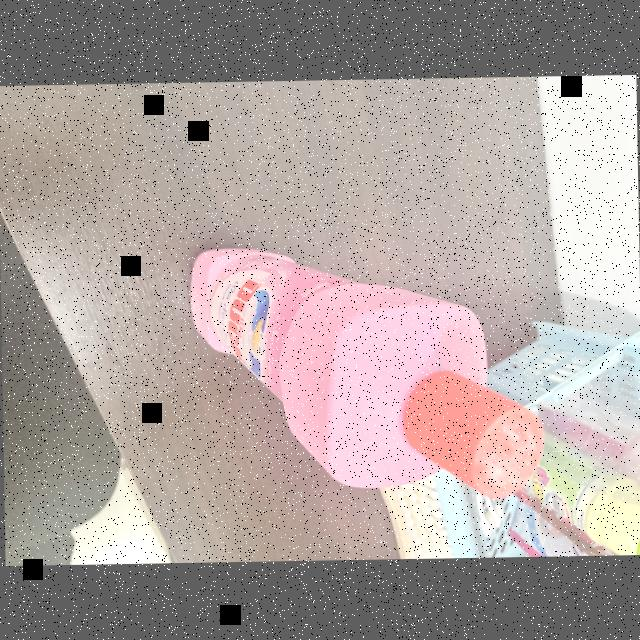chemical_plastic_bottle: (186, 223, 546, 509)
